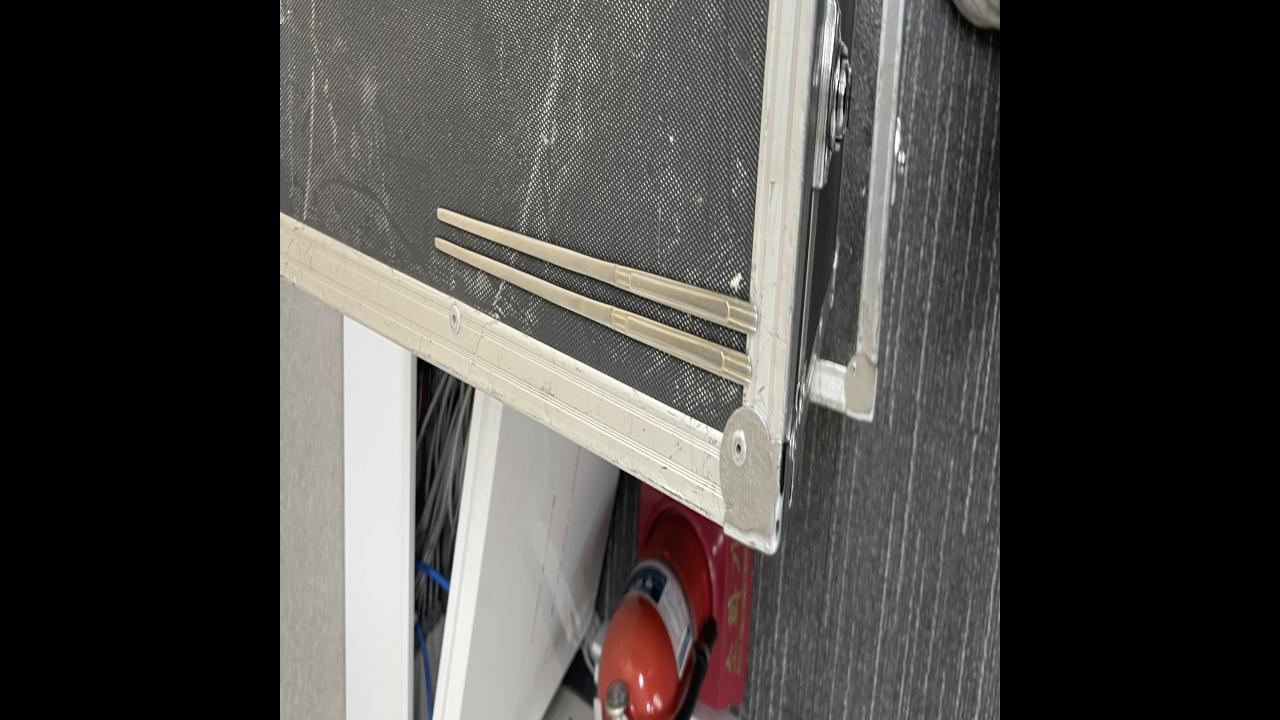chopstick: (435, 204, 760, 388)
